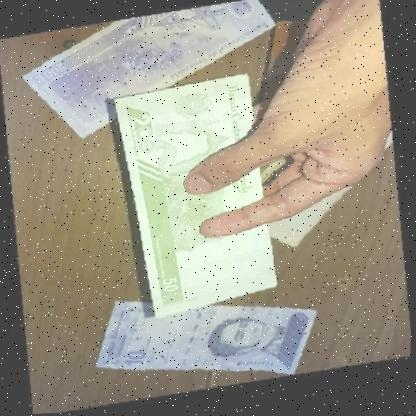vef_back: (109, 71, 282, 322)
